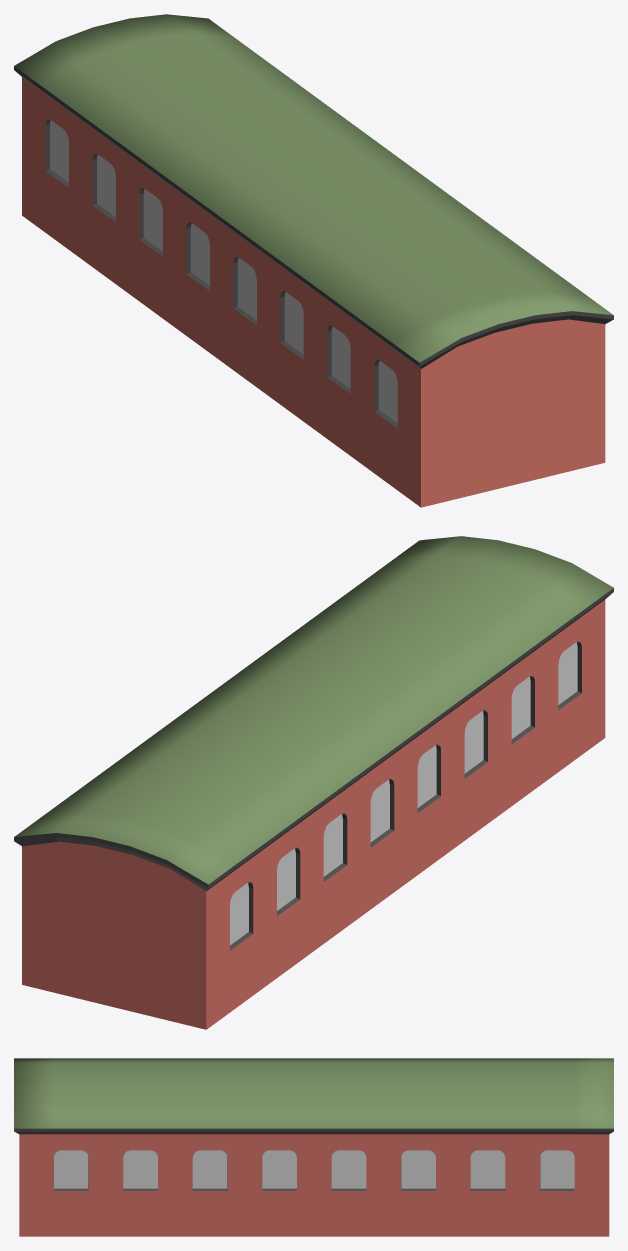
The model's file is TrainCarriage.fbx.
The picture shows the model from 3 angles, top to bottom: view 1: azimuth 30°, elevation 25°; view 2: azimuth 150°, elevation 25°; view 3: azimuth 270°, elevation 25°; orthographic projection. The views are drawn at different scales.
Parts seen in each view (by area): view 1: Cube, Cube.001; view 2: Cube, Cube.001; view 3: Cube, Cube.001.
Boxes of the visible parts, box(x1,y1,x2,y2) form: Cube: box(14, 14, 613, 507); Cube.001: box(50, 120, 397, 423); Cube: box(14, 536, 613, 1029); Cube.001: box(230, 642, 577, 945); Cube: box(14, 1058, 613, 1236); Cube.001: box(54, 1150, 574, 1188).
Bounding box in the file's own units: 4.22 × 3.48 × 15.25.
